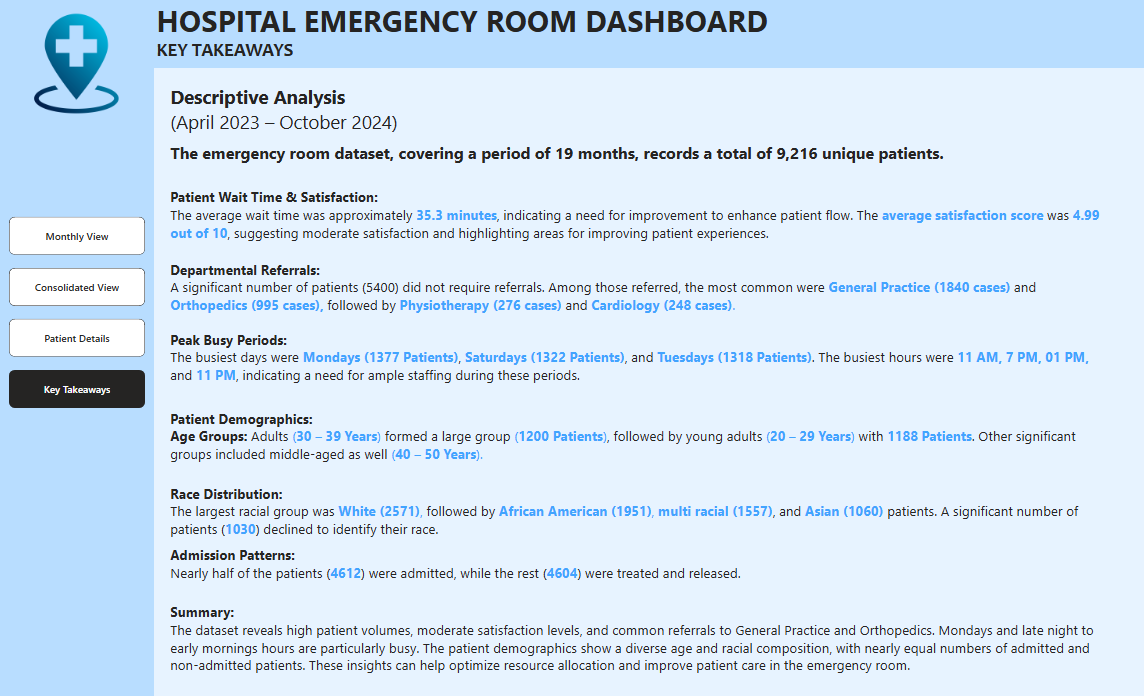

What the dashboard file says about the page in this screenshot:
{"tool":"powerbi","page":{"name":"Key Takeaways","canvas":[2300,1400],"ordinal":3},"visuals":[{"type":"shape","box":[0,0,310,1400],"z":0},{"type":"shape","box":[310,0,1990,140],"z":1000},{"type":"textbox","box":[310,0,1242.5,105],"z":2000},{"type":"textbox","box":[310,75,405,65],"z":3000},{"type":"image","box":[50,17.5,210,227.5],"z":4000},{"type":"textbox","box":[337.5,167.5,545,115],"z":5000},{"type":"textbox","box":[337.5,282.5,1870,67.5],"z":6000},{"type":"textbox","box":[337.5,375,1870,122.5],"z":7000},{"type":"textbox","box":[337.5,520,1870,122.5],"z":8000},{"type":"textbox","box":[337.5,660,1870,130],"z":9000},{"type":"textbox","box":[337.5,817.5,1870,130],"z":10000},{"type":"textbox","box":[337.5,967.5,1870,217.5],"z":11000},{"type":"textbox","box":[337.5,1205,1907.5,167.5],"z":12000},{"type":"pageNavigator","box":[20,437.5,272.5,385],"z":13000}]}

Visuals, with their boxes in screenshot pixels (x1, y1, x2, y2), scaled from the page's 2300x1400 canvas onto the 1144x696 screenshot:
shape: box=[0, 0, 154, 695]
shape: box=[154, 0, 1143, 70]
textbox: box=[154, 0, 772, 52]
textbox: box=[154, 37, 356, 70]
image: box=[25, 9, 129, 122]
textbox: box=[168, 83, 439, 140]
textbox: box=[168, 140, 1098, 174]
textbox: box=[168, 186, 1098, 247]
textbox: box=[168, 259, 1098, 319]
textbox: box=[168, 328, 1098, 393]
textbox: box=[168, 406, 1098, 471]
textbox: box=[168, 481, 1098, 589]
textbox: box=[168, 599, 1117, 682]
pageNavigator: box=[10, 218, 145, 409]
